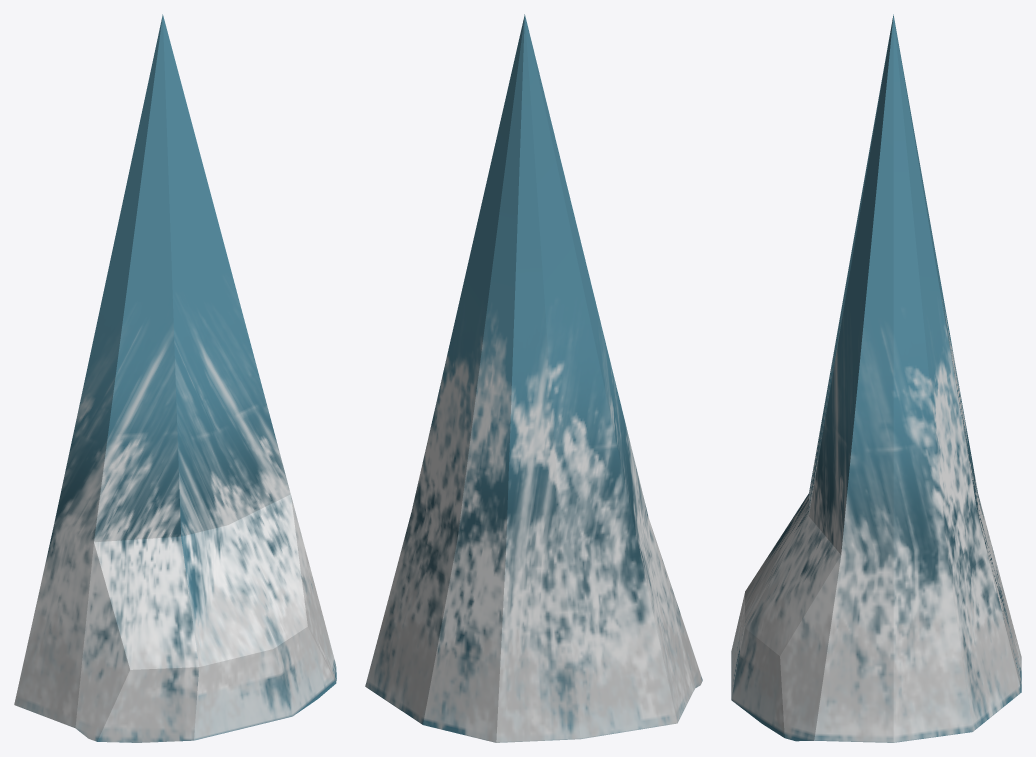
File: ms_iceShape02.fbx
3 views of the same model, side by side, from view 1: azimuth 30°, elevation 25°; view 2: azimuth 150°, elevation 25°; view 3: azimuth 270°, elevation 25° (orthographic). The views are drawn at different scales.
Visible parts, largest first — view 1: polySurface2; view 2: polySurface2; view 3: polySurface2.
Boxes of the visible parts, x1,y1,x2,y2 form: polySurface2: (14, 14, 336, 742); polySurface2: (365, 14, 702, 742); polySurface2: (731, 14, 1021, 742).
Bounding box in the file's own units: 229 × 502 × 198.
